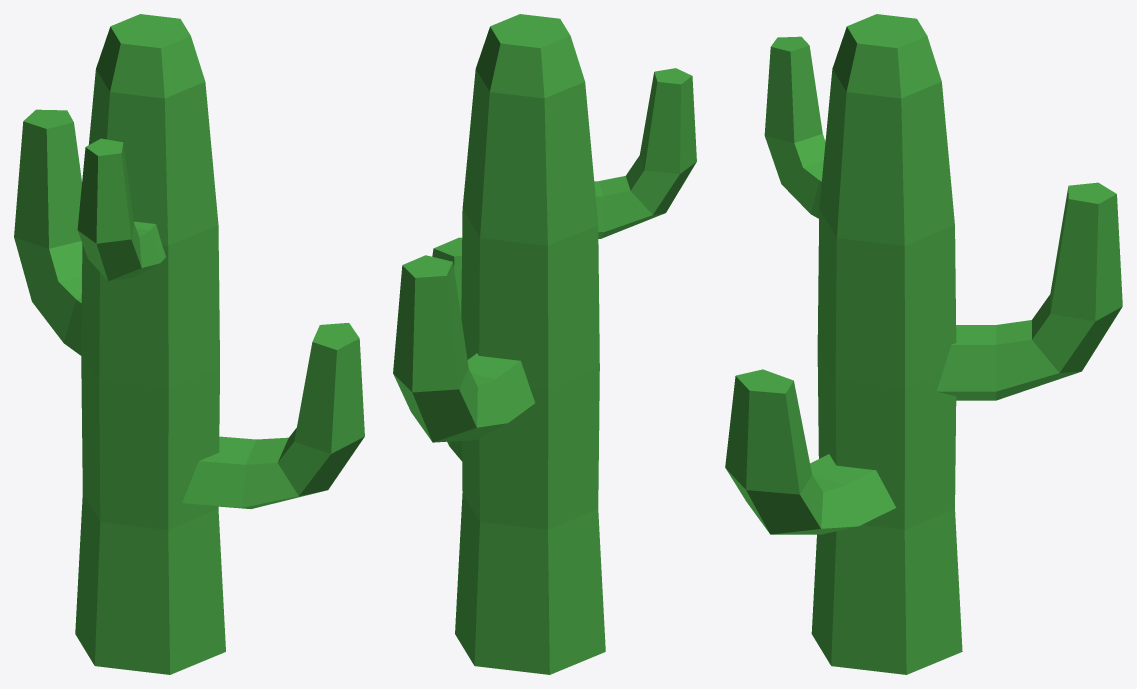
Rendered from Cactus_3.fbx.
3 renders of one model, left to right at view 1: azimuth 30°, elevation 25°; view 2: azimuth 150°, elevation 25°; view 3: azimuth 270°, elevation 25°, orthographic.
Visible parts, largest first — view 1: Cactus, Arm, Arm.001, Arm.002; view 2: Cactus, Arm.001, Arm.002, Arm; view 3: Cactus, Arm.001, Arm, Arm.002.
Boxes of the visible parts, x1,y1,x2,y2 form: Cactus: [75, 14, 225, 674]; Arm: [182, 323, 364, 508]; Arm.001: [14, 109, 82, 355]; Arm.002: [77, 138, 165, 281]; Cactus: [455, 14, 605, 674]; Arm.001: [393, 255, 534, 442]; Arm.002: [594, 68, 696, 238]; Arm: [432, 237, 462, 460]; Cactus: [811, 14, 962, 674]; Arm.001: [936, 182, 1122, 400]; Arm: [725, 369, 896, 534]; Arm.002: [764, 36, 825, 218].
Bounding box in the file's own units: 58.26 × 128 × 75.39.
